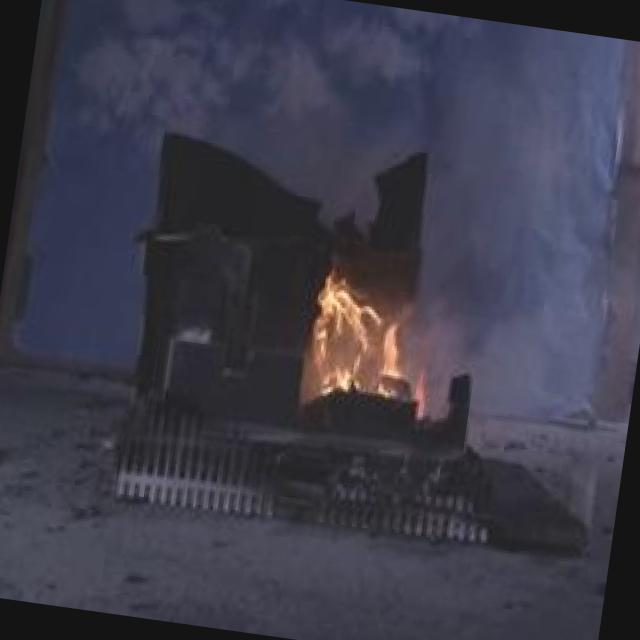fire: (262, 240, 454, 430)
smoke: (29, 0, 640, 275)
